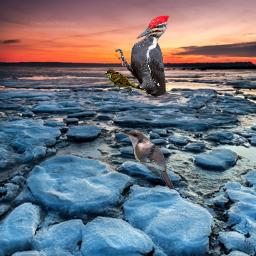Cuckoo: (121, 128, 174, 191), (104, 69, 147, 91)
Woodpecker: (115, 15, 169, 98)
